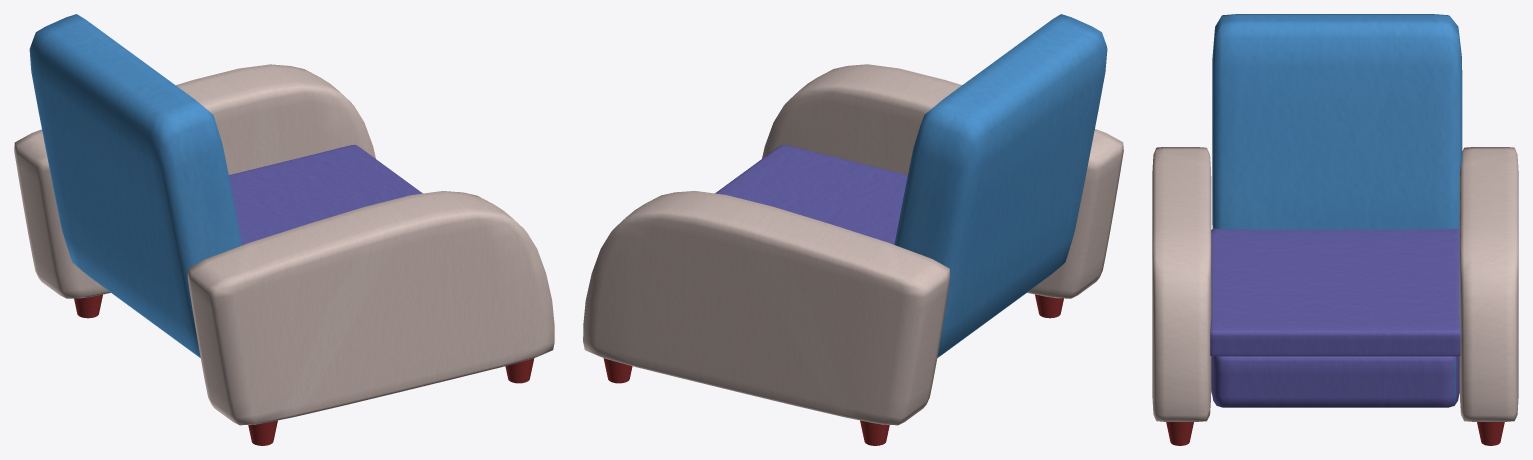
Rendered from chair_MES.fbx.
3 renders of one model, left to right at view 1: azimuth 30°, elevation 25°; view 2: azimuth 150°, elevation 25°; view 3: azimuth 270°, elevation 25°, orthographic. The views are drawn at different scales.
Parts seen in each view (by area): view 1: Chair_Arm.001, Box001, Chair_Arm, Chair_Cushion, Chair_Legs; view 2: Chair_Arm, Box001, Chair_Arm.001, Chair_Cushion, Chair_Legs; view 3: Box001, Chair_Cushion, Chair_Arm.001, Chair_Arm, Chair_Legs.
Boxes of the visible parts, box(x1,y1,x2,y2) form: Chair_Arm.001: box(187, 191, 554, 425); Box001: box(29, 14, 242, 357); Chair_Arm: box(14, 64, 375, 298); Chair_Cushion: box(229, 144, 422, 245); Chair_Legs: box(74, 294, 534, 445); Chair_Arm: box(583, 190, 950, 425); Box001: box(894, 14, 1107, 357); Chair_Arm.001: box(762, 64, 1123, 298); Chair_Cushion: box(715, 145, 907, 244); Chair_Legs: box(603, 294, 1063, 445); Box001: box(1212, 14, 1462, 229); Chair_Cushion: box(1210, 228, 1460, 407); Chair_Arm.001: box(1152, 147, 1211, 421); Chair_Arm: box(1459, 147, 1518, 421); Chair_Legs: box(1166, 422, 1504, 445).
Bounding box in the file's own units: 124 × 107 × 122.
